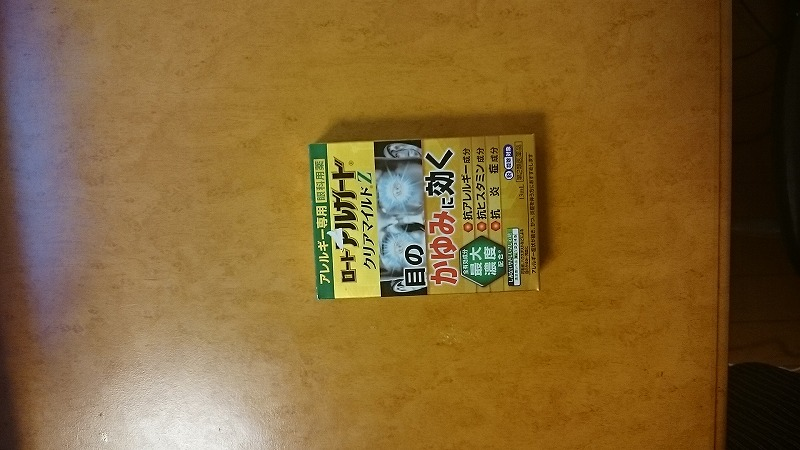C: (302, 132, 548, 303)
